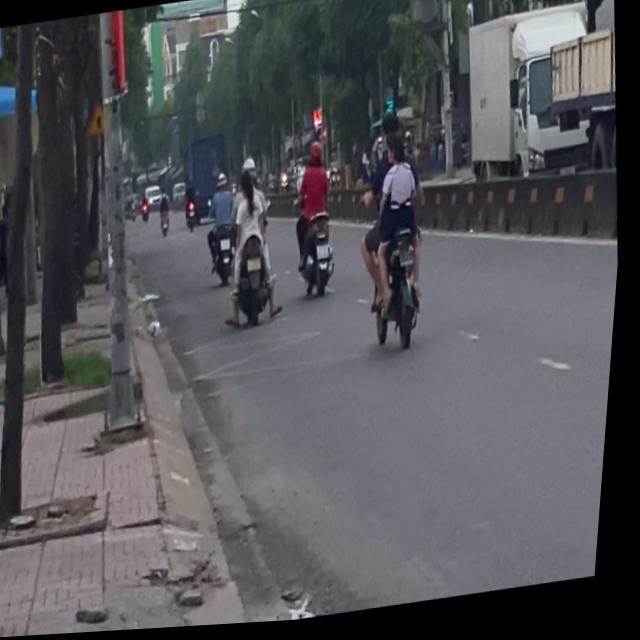licenseplate: (342, 105, 446, 362)
motorcyclist: (385, 128, 410, 171)
